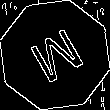M_SE: (23, 22, 87, 88)
